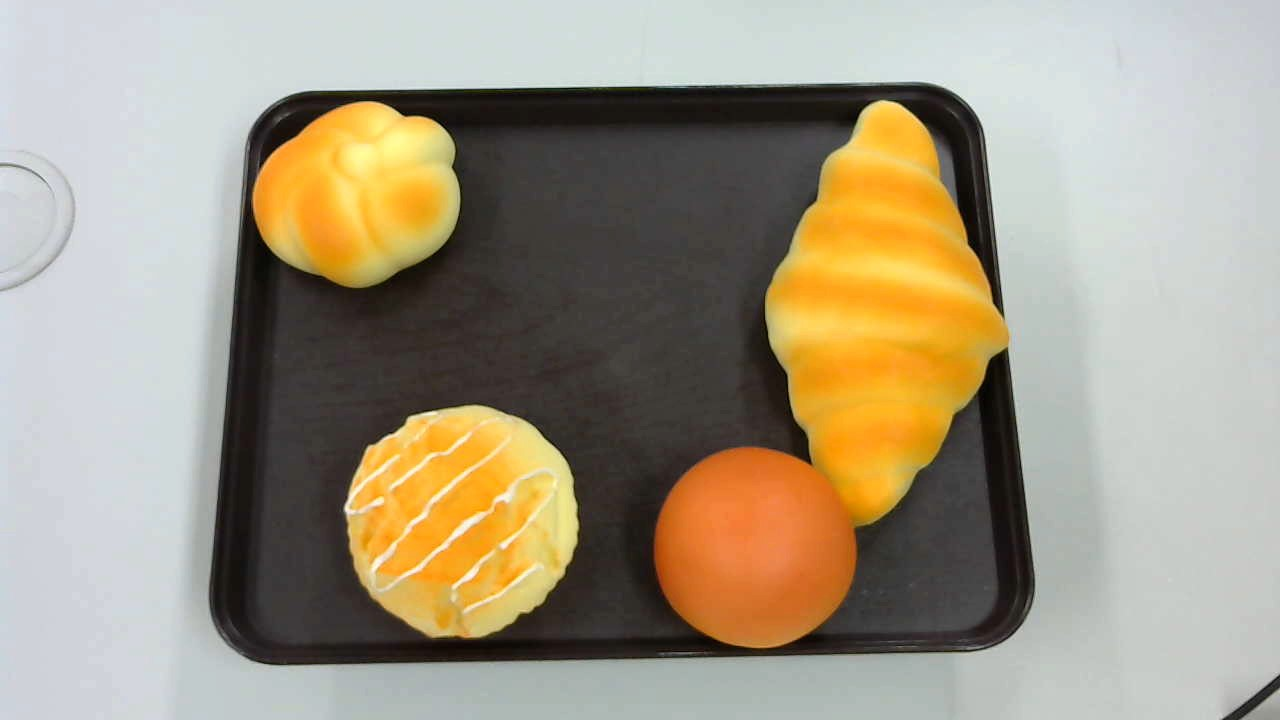bun: (653, 445, 856, 650)
croissant: (764, 99, 1010, 527)
cupcake: (342, 405, 582, 640)
twist bread: (246, 99, 463, 291)
